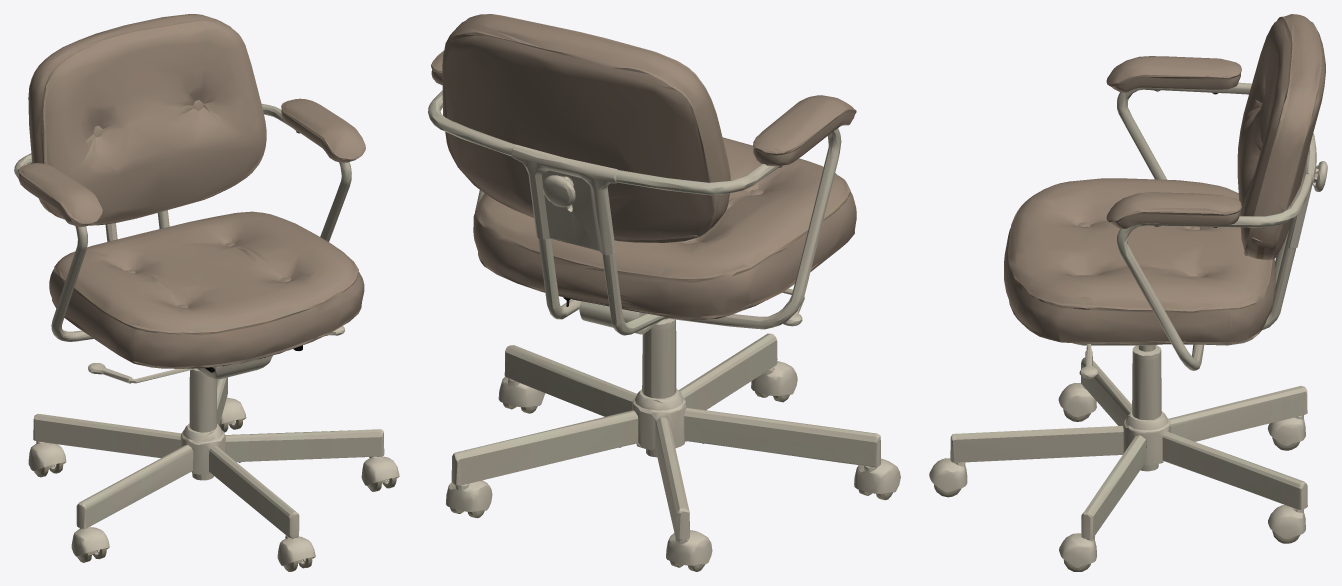
File: 04 - ALEFJÄLL - 辦公椅, Grann 米色 IKEA 線上購物.glb
3 renders of one model, left to right at view 1: azimuth 30°, elevation 25°; view 2: azimuth 150°, elevation 25°; view 3: azimuth 270°, elevation 25°, orthographic. The views are drawn at different scales.
Visible parts, largest first — view 1: ProcessedMeshNode; view 2: ProcessedMeshNode; view 3: ProcessedMeshNode.
Boxes of the visible parts, left/top/right/bottom form: ProcessedMeshNode: left=14, top=14, right=399, bottom=571; ProcessedMeshNode: left=428, top=14, right=900, bottom=571; ProcessedMeshNode: left=929, top=14, right=1327, bottom=571.
Bounding box in the file's own units: 0.6743 × 0.845 × 0.6849.
1 material, 1 textured.
